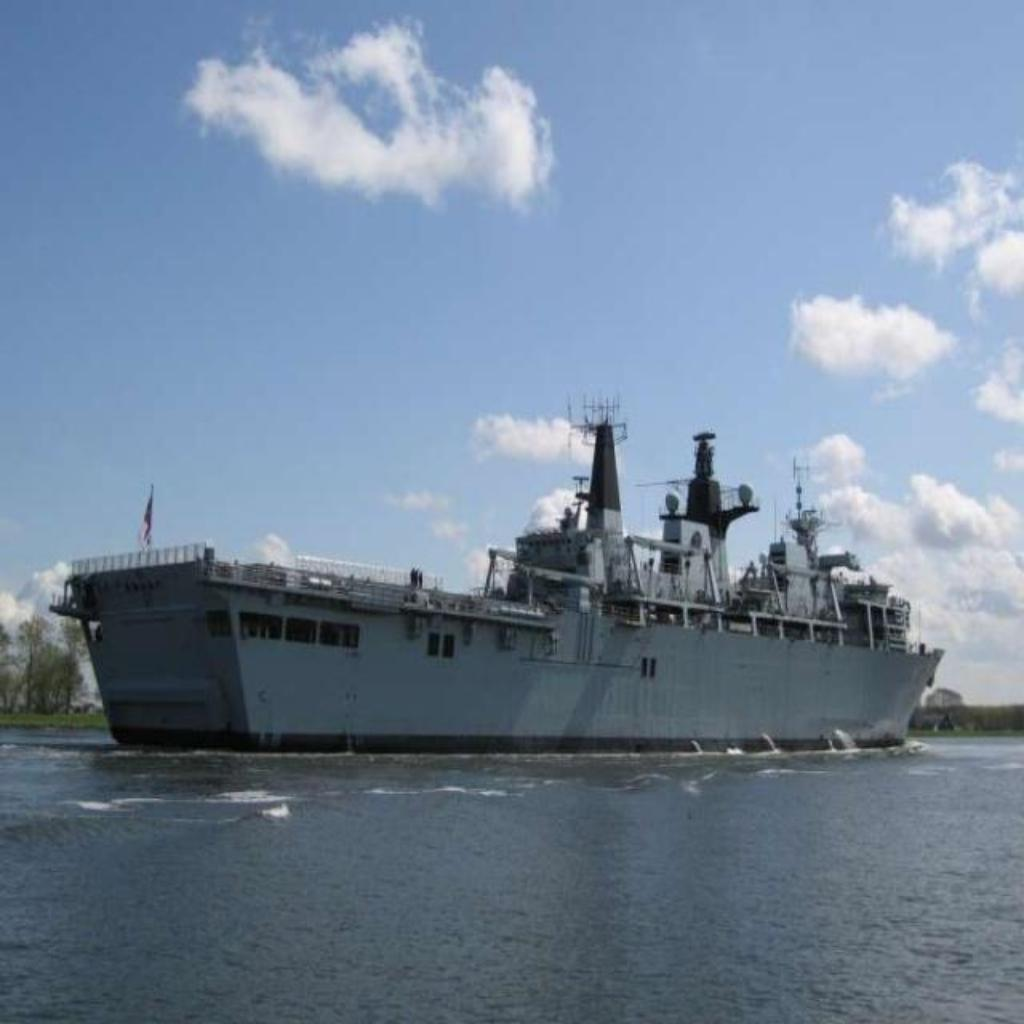Warship: (38, 370, 950, 770)
